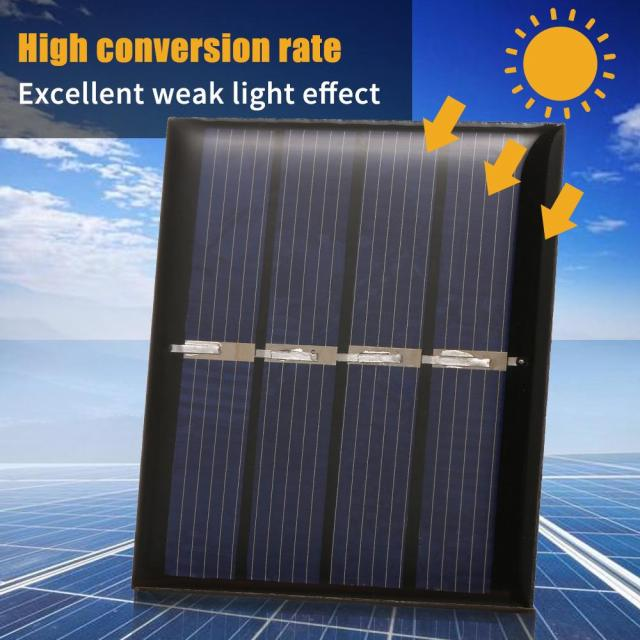no faulty: (190, 134, 522, 608)
